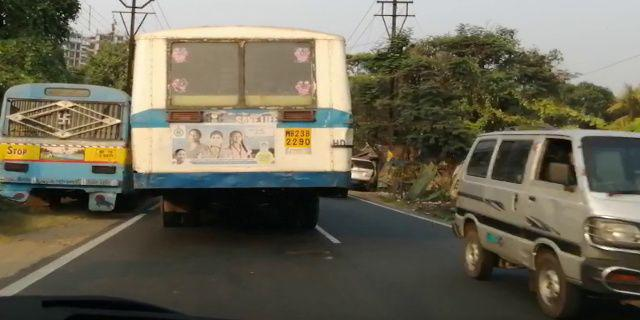Bus: (128, 27, 352, 236), (1, 78, 131, 214)
Van: (446, 120, 640, 310)
